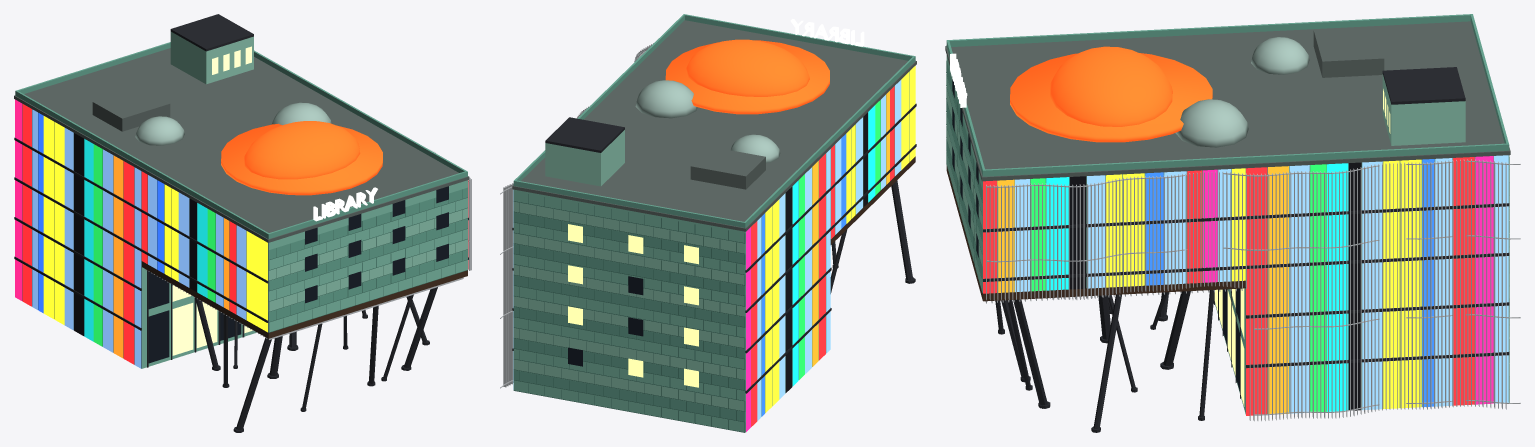
File: library.glb
The picture shows the model from 3 angles, left to right: view 1: azimuth 30°, elevation 25°; view 2: azimuth 150°, elevation 25°; view 3: azimuth 270°, elevation 25°; orthographic projection. The views are drawn at different scales.
Visible parts, largest first — view 1: library_Roof, library_Copper_A, library_Copper_B, library_Emit_Glass_clear, library_Steel, library_Beret, library_Copper_C, library_Emit_Glass_red, library_Emit_Glass_lime, library_Glass_Dark, library_Emit_Glass_teal, library_Emit_Glass_yellow (+11 smaller); view 2: library_Roof, library_Copper_A, library_Copper_B, library_Copper_C, library_Beret, library_Copper_Seam, library_Emit_Glass_clear, library_Steel, library_Emit_Glass_red, library_Emit_Glass_lime, library_Pod_Pale, library_Mesh_Screen (+11 smaller); view 3: library_Mesh_Screen, library_Roof, library_Emit_Glass_clear, library_Beret, library_Steel, library_Emit_Glass_red, library_Copper_B, library_Copper_A, library_Emit_Glass_teal, library_Emit_Glass_yellow, library_Emit_Glass_lime, library_Emit_Glass_orange (+10 smaller).
Part boxes in pixels (bbox=[...]): library_Roof: bbox=[14, 48, 469, 242]; library_Copper_A: bbox=[22, 104, 467, 368]; library_Copper_B: bbox=[15, 42, 467, 321]; library_Emit_Glass_clear: bbox=[32, 109, 246, 368]; library_Steel: bbox=[14, 14, 468, 432]; library_Beret: bbox=[221, 121, 382, 195]; library_Copper_C: bbox=[170, 31, 467, 311]; library_Emit_Glass_red: bbox=[22, 104, 468, 364]; library_Emit_Glass_lime: bbox=[54, 122, 267, 332]; library_Glass_Dark: bbox=[148, 186, 448, 363]; library_Emit_Glass_teal: bbox=[84, 139, 207, 341]; library_Emit_Glass_yellow: bbox=[43, 116, 171, 318]; library_Roof: bbox=[512, 20, 916, 231]; library_Copper_A: bbox=[513, 71, 909, 432]; library_Copper_B: bbox=[513, 14, 915, 421]; library_Copper_C: bbox=[513, 130, 745, 411]; library_Beret: bbox=[665, 39, 829, 114]; library_Copper_Seam: bbox=[513, 194, 745, 432]; library_Emit_Glass_clear: bbox=[513, 80, 901, 420]; library_Steel: bbox=[512, 103, 916, 393]; library_Emit_Glass_red: bbox=[751, 86, 894, 426]; library_Emit_Glass_lime: bbox=[772, 66, 915, 406]; library_Pod_Pale: bbox=[635, 80, 780, 162]; library_Mesh_Screen: bbox=[500, 43, 653, 388]; library_Mesh_Screen: bbox=[985, 159, 1520, 421]; library_Roof: bbox=[945, 21, 1510, 181]; library_Emit_Glass_clear: bbox=[1015, 155, 1508, 413]; library_Beret: bbox=[1010, 46, 1212, 142]; library_Steel: bbox=[946, 67, 1509, 432]; library_Emit_Glass_red: bbox=[983, 157, 1474, 415]; library_Copper_B: bbox=[946, 14, 1509, 388]; library_Copper_A: bbox=[946, 55, 1509, 414]; library_Emit_Glass_teal: bbox=[1046, 163, 1348, 411]; library_Emit_Glass_yellow: bbox=[1122, 159, 1421, 408]; library_Emit_Glass_lime: bbox=[1106, 160, 1399, 409]; library_Emit_Glass_orange: bbox=[997, 166, 1288, 414].
Size of the model in its own units: 30.74 by 26.7 by 46.26.
